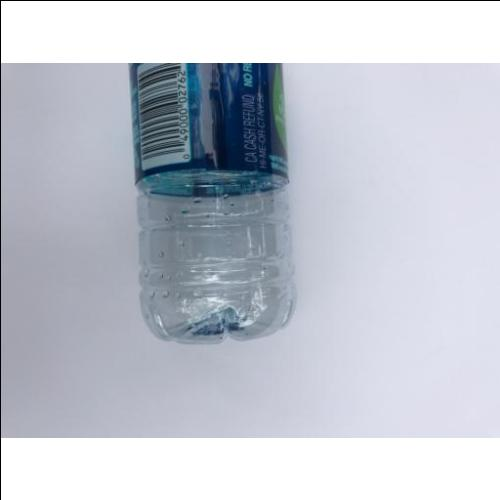plastic: (130, 62, 296, 341)
